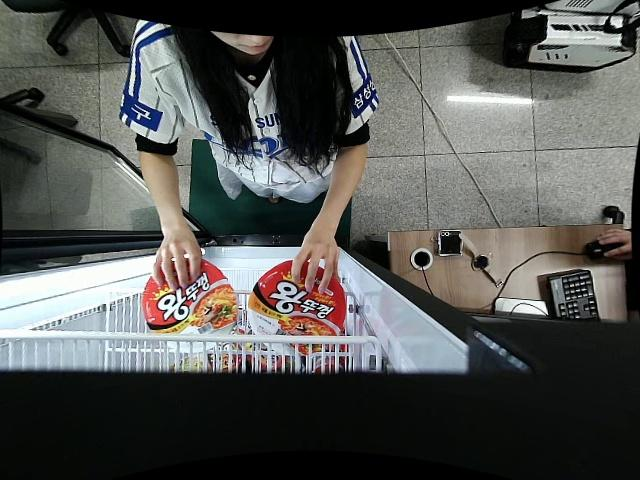00_hand: (291, 230, 342, 299), (150, 229, 203, 291)
10_wangTtukkeong: (143, 257, 239, 353), (249, 261, 347, 352)
